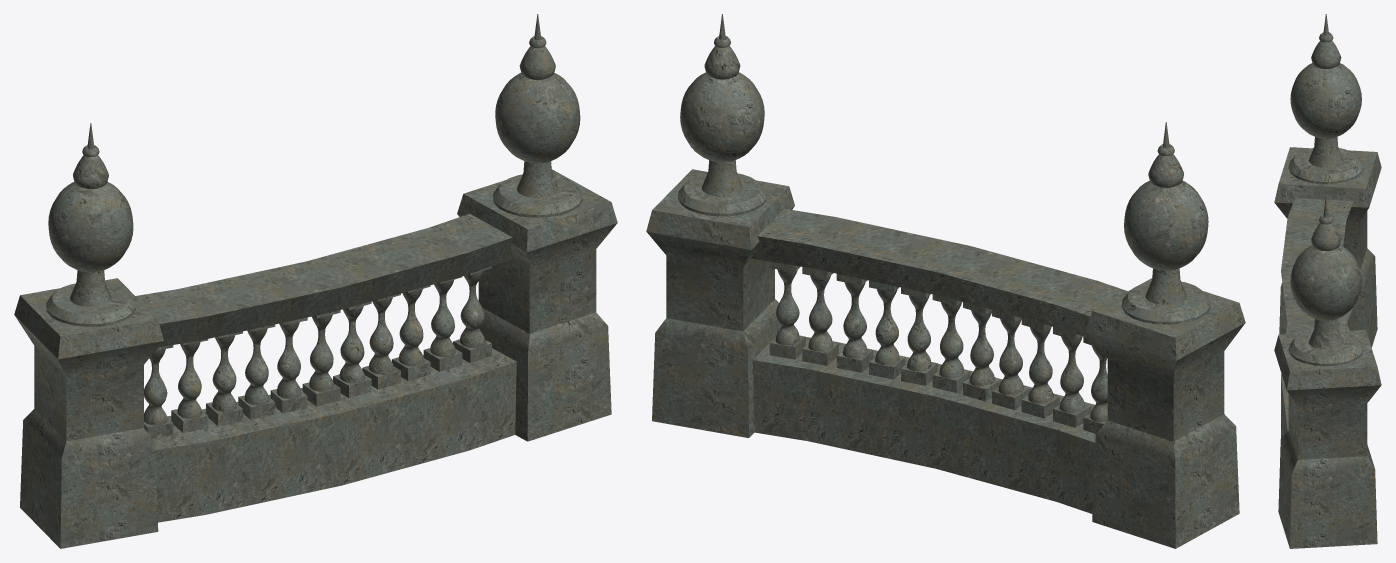
File: fbxFence.fbx
3 renders of one model, left to right at view 1: azimuth 30°, elevation 25°; view 2: azimuth 150°, elevation 25°; view 3: azimuth 270°, elevation 25°, orthographic. The views are drawn at different scales.
Parts seen in each view (by area): view 1: FENCE3; view 2: FENCE3; view 3: FENCE3.
Boxes of the visible parts, box(x1,y1,x2,y2) form: FENCE3: box(14, 14, 617, 548); FENCE3: box(646, 14, 1245, 548); FENCE3: box(1274, 14, 1381, 548).
Size of the model in its own units: 3.1 by 2.1 by 0.6163.
Materials: 1 (1 with a texture image).
